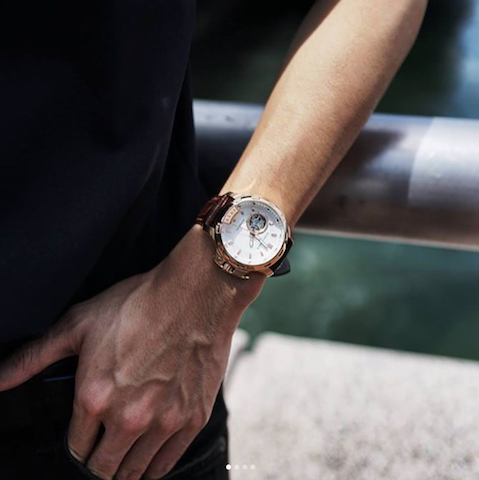watch: (190, 187, 321, 300)
